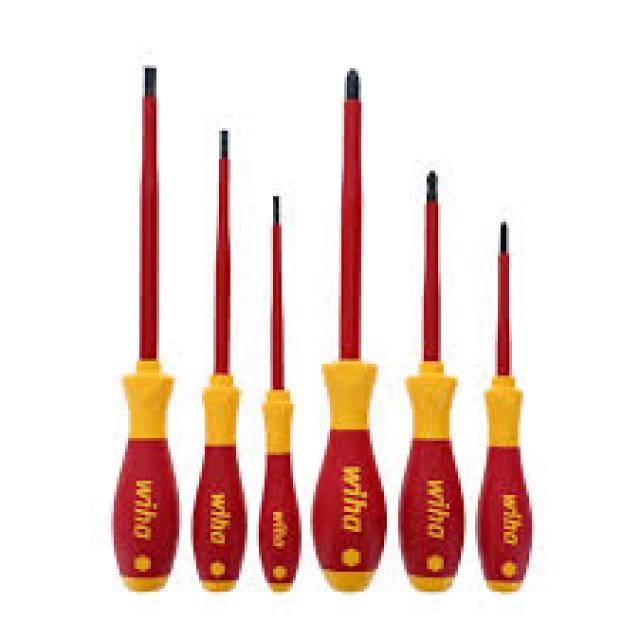screwdriver: (310, 66, 390, 594), (104, 57, 180, 598), (392, 165, 467, 594), (189, 128, 252, 594), (470, 220, 538, 594), (253, 192, 307, 596)
